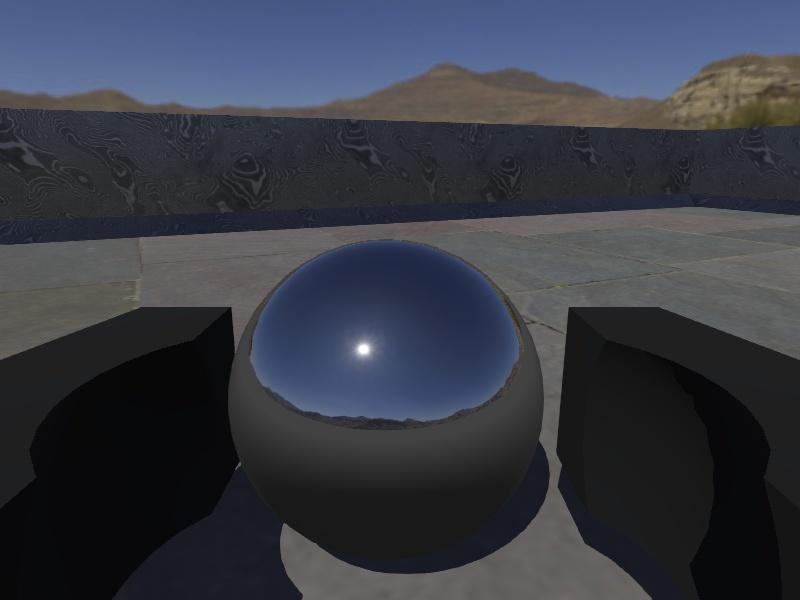steel ball: (227, 237, 545, 564)
